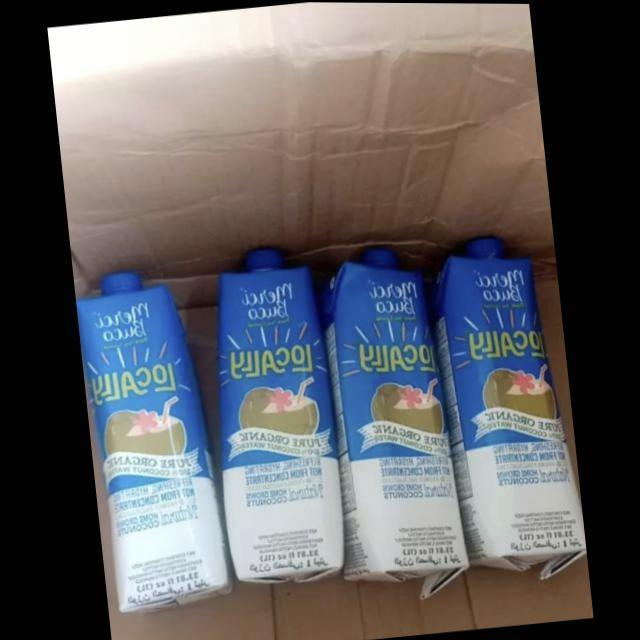cardboard: (47, 2, 557, 308)
